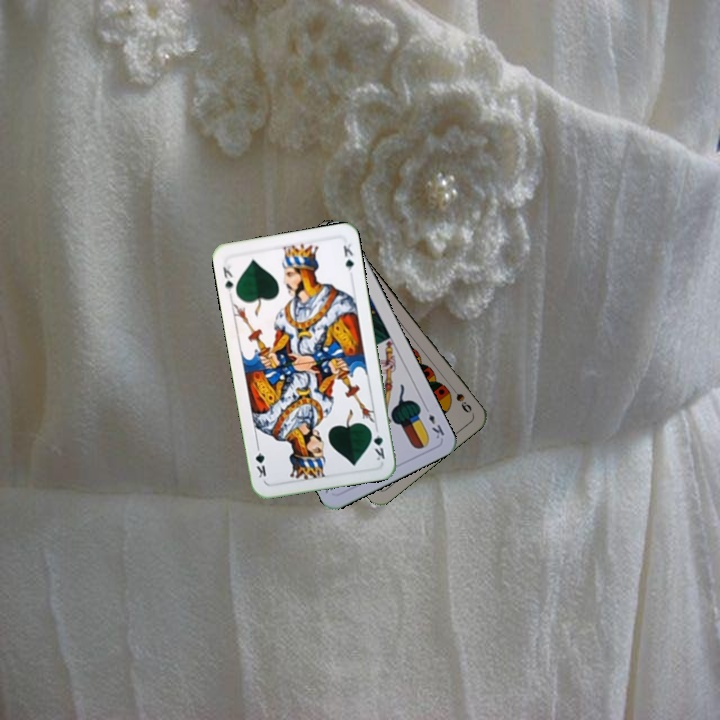EK: (420, 402, 447, 441)
GK: (366, 423, 387, 463), (219, 258, 236, 298)
S9: (446, 381, 474, 416)
